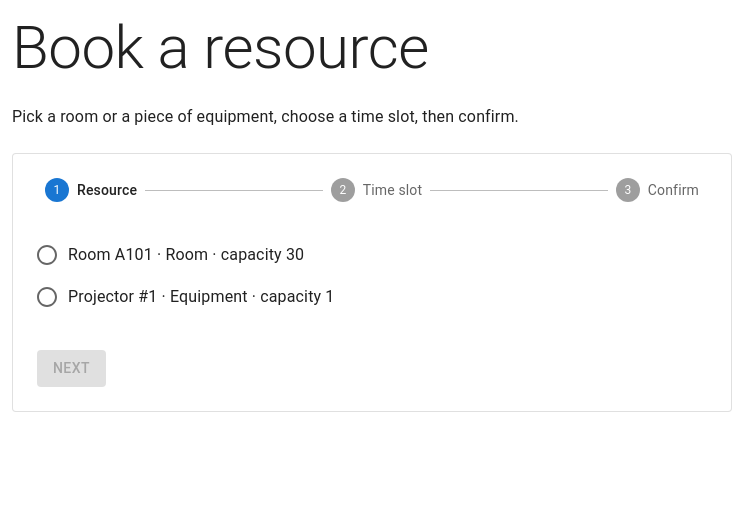
Scenario: BookingPage (US-03, US-07) › validates the slot in real time with the rules of my role
Click the radio button labelled "Room A101 · Room · capacity 30".
click(170, 255)  # box 35,243 -> 304,267
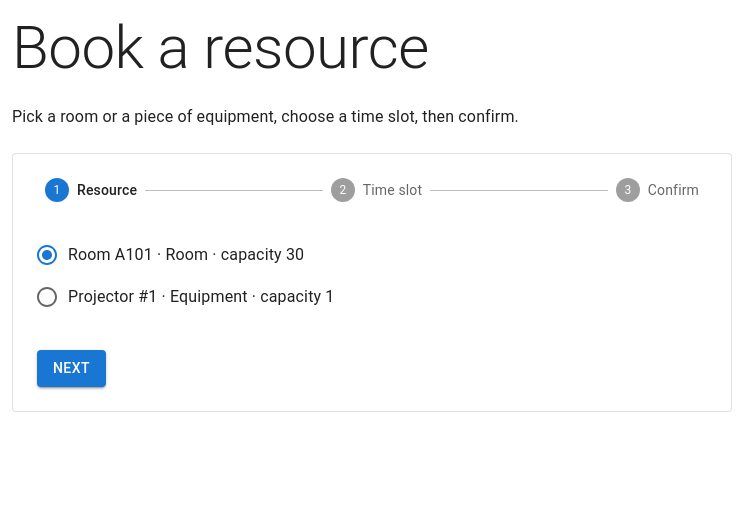
Click the button "Next".
click(71, 368)  # box 37,350 -> 106,386
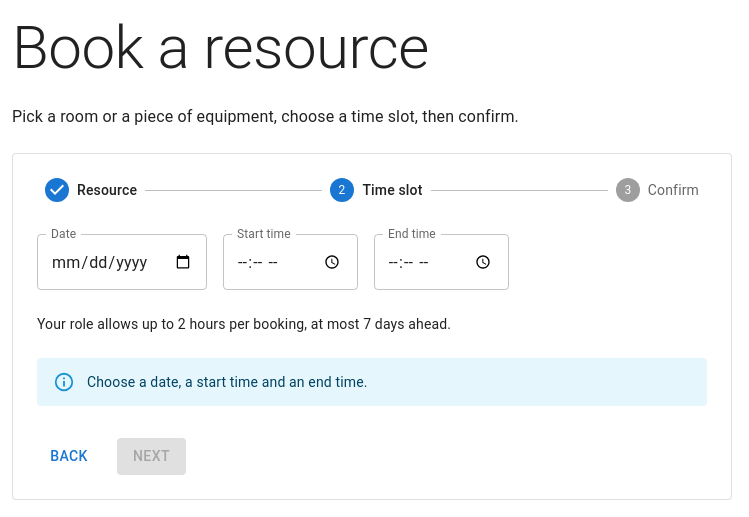
Type "2026-12-01" into the date field labelled "Date".
click(122, 262); type("2026-12-01")  # box 37,234 -> 207,290
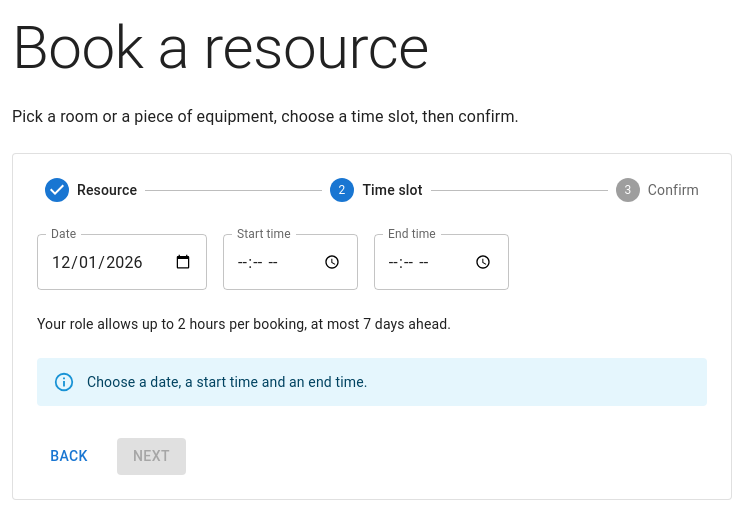
Type "10:00" into the time field labelled "Start time".
click(290, 262); type("10:00")  # box 223,234 -> 358,290
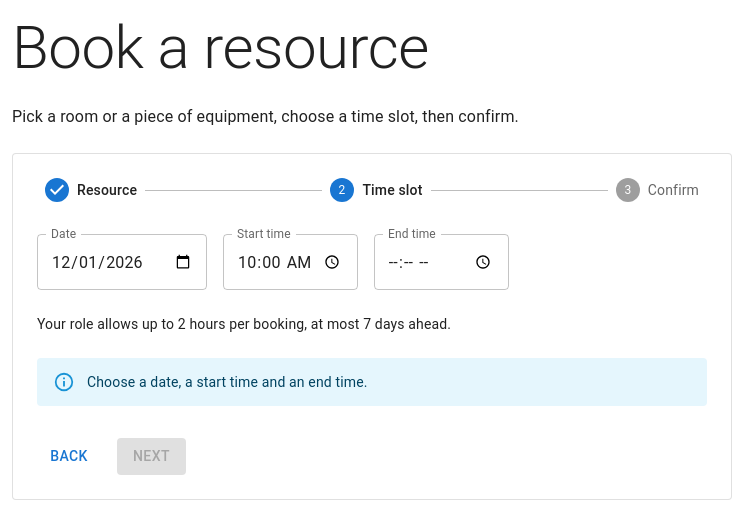
Type "13:00" into the time field labelled "End time".
click(441, 262); type("13:00")  # box 374,234 -> 509,290
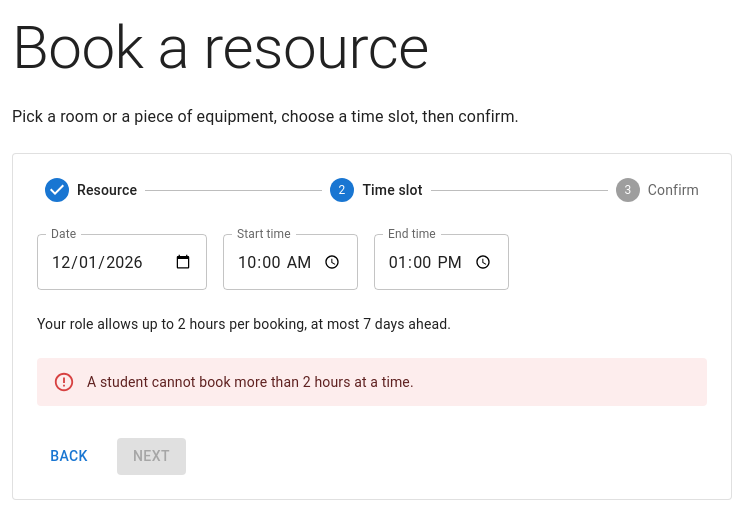
Now the button "Next" is disabled, box 117,438 -> 186,474
Now the text "A student cannot book more than 2 hours at a time." is shown, box 87,374 -> 414,390
Replace the text in the time field labelled "End time" with "11:00" at [441, 262], box 374,234 -> 509,290
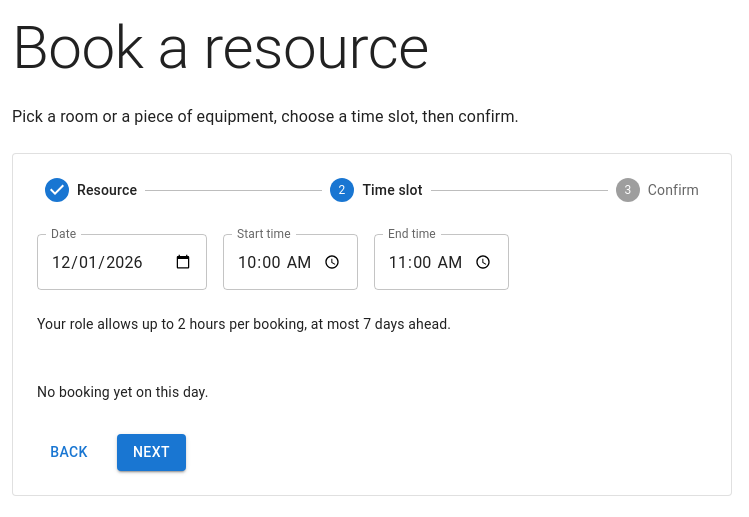
Now the text "cannot book more than" is gone
Now the button "Next" is enabled, box 117,434 -> 186,470
